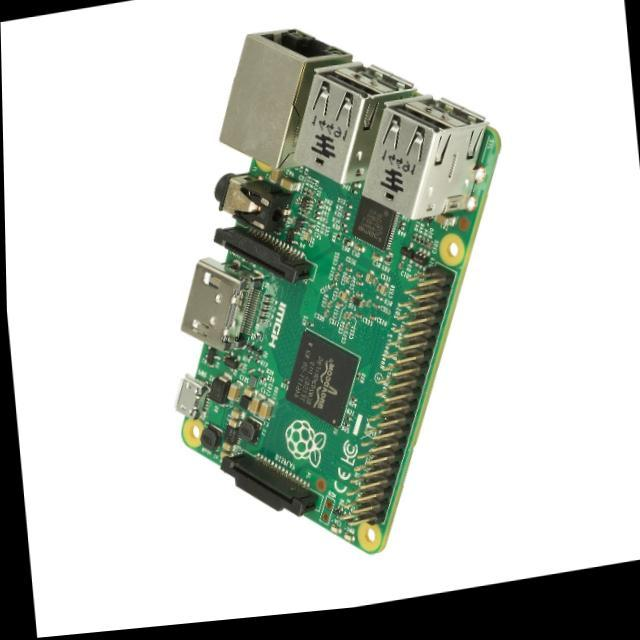Raspberry-Pi-2-B: (177, 31, 501, 554)
